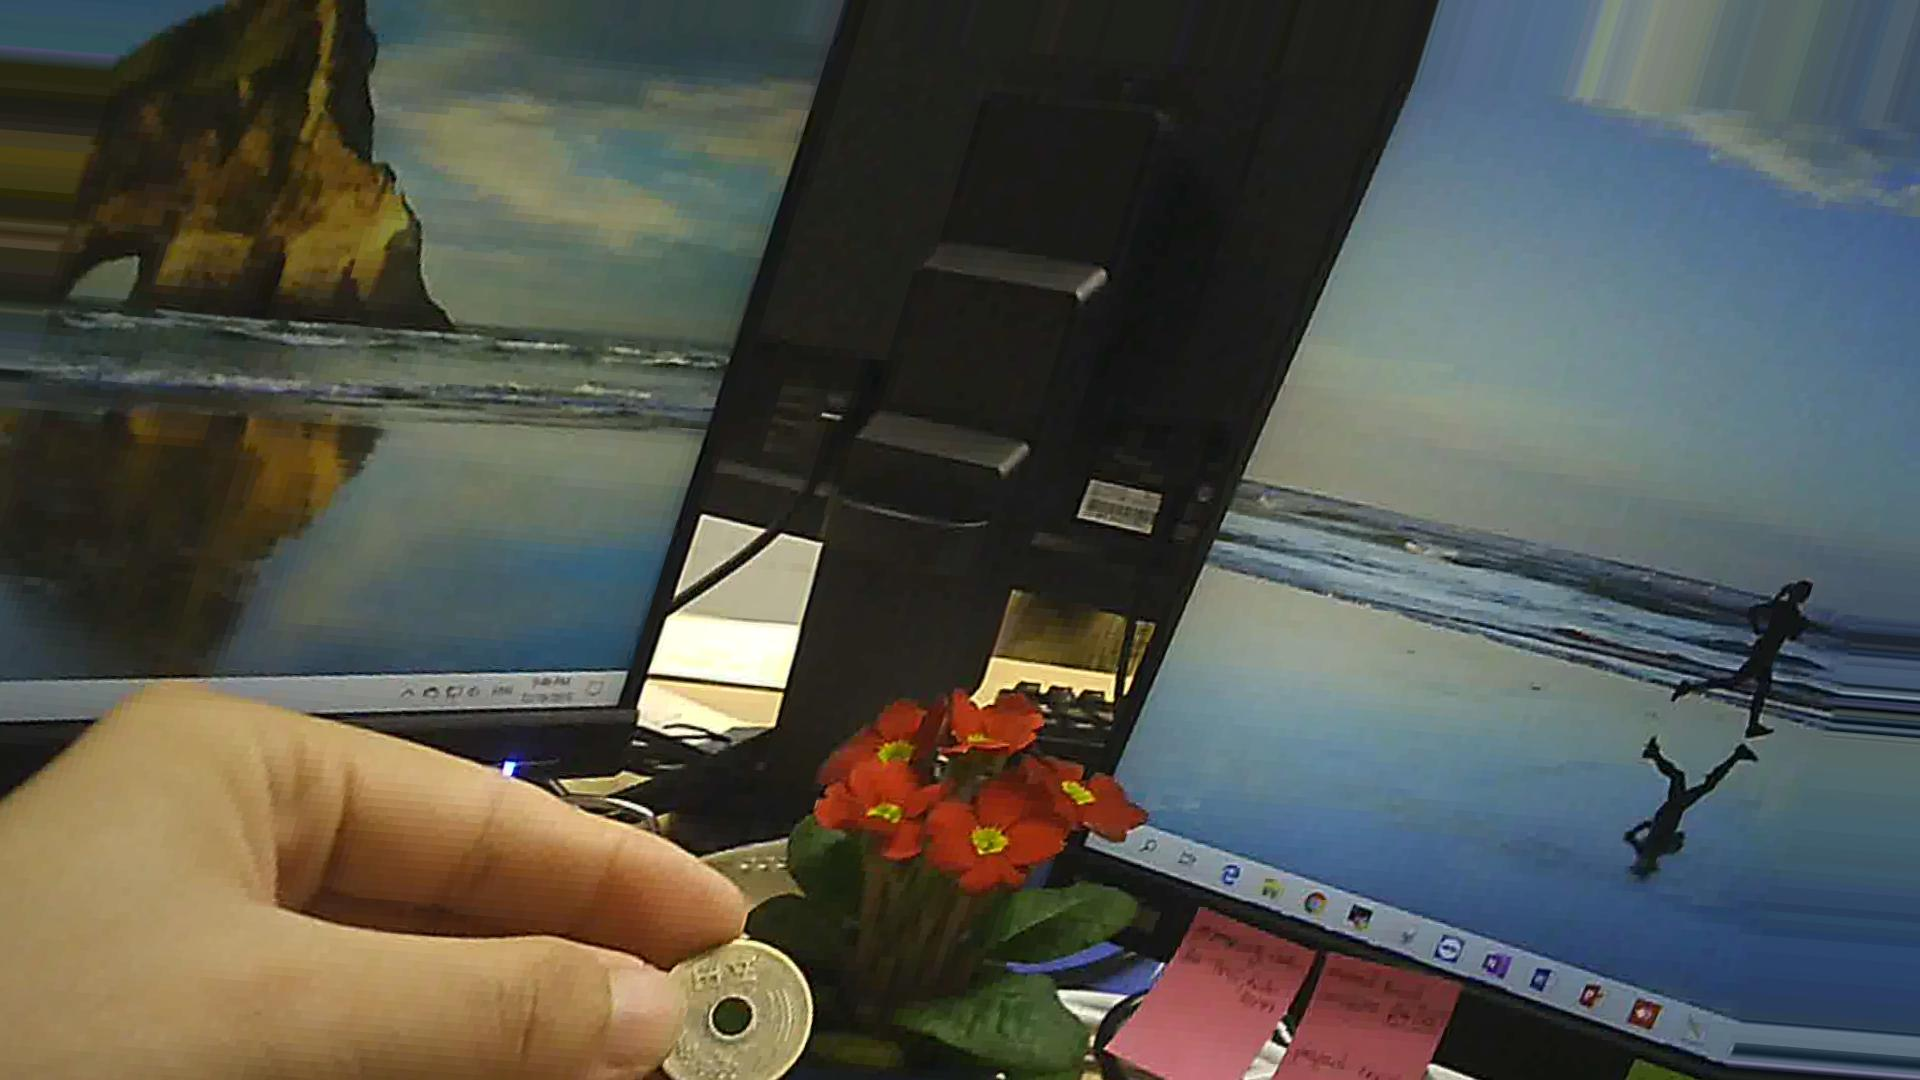5 Yen: (649, 934, 811, 1076)
